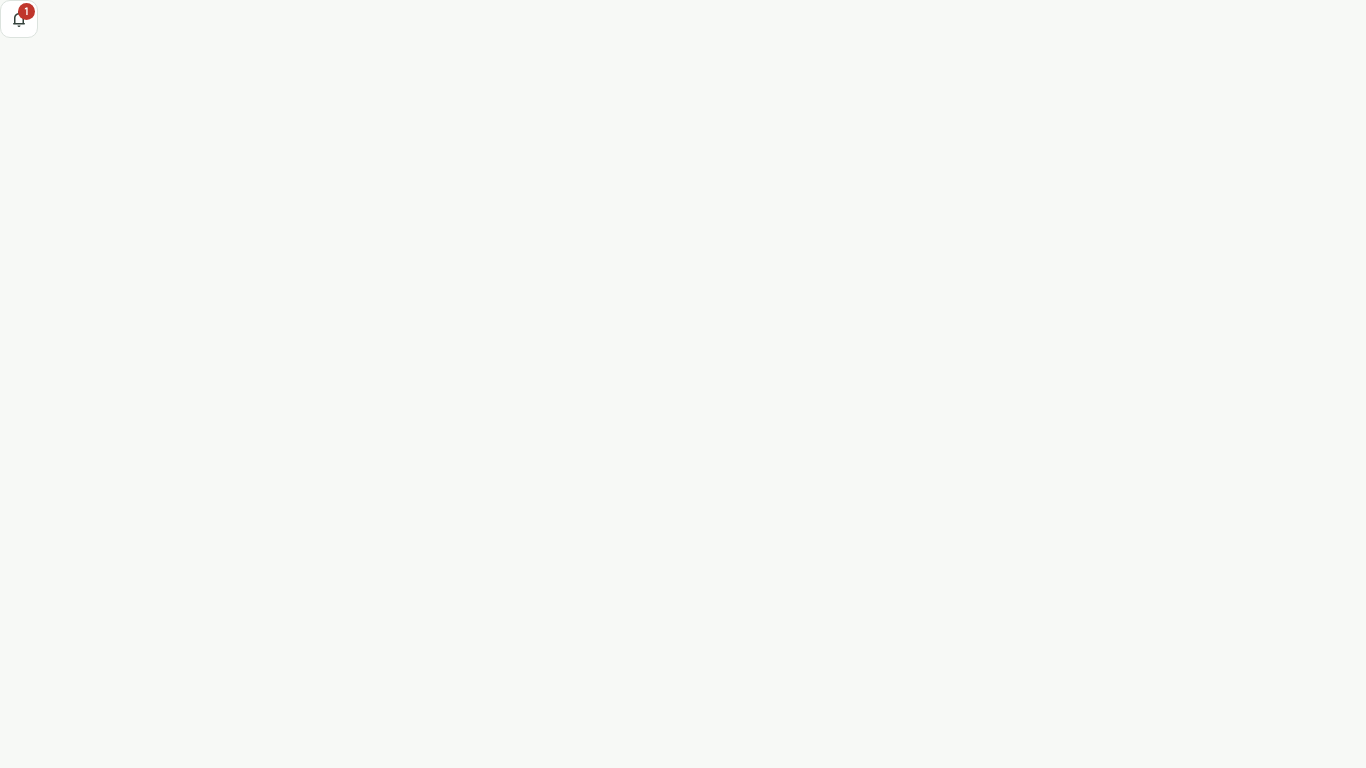
Test: the bell against the real Lefi Brain › shows unread notifications and marks one read when opened
The width and height of the screenshot is (1366, 768).
Later steps or results of the test are not shown.
Click the button named "Notifications, 1 unread". click: (19, 19)
box: [0,0,38,38]
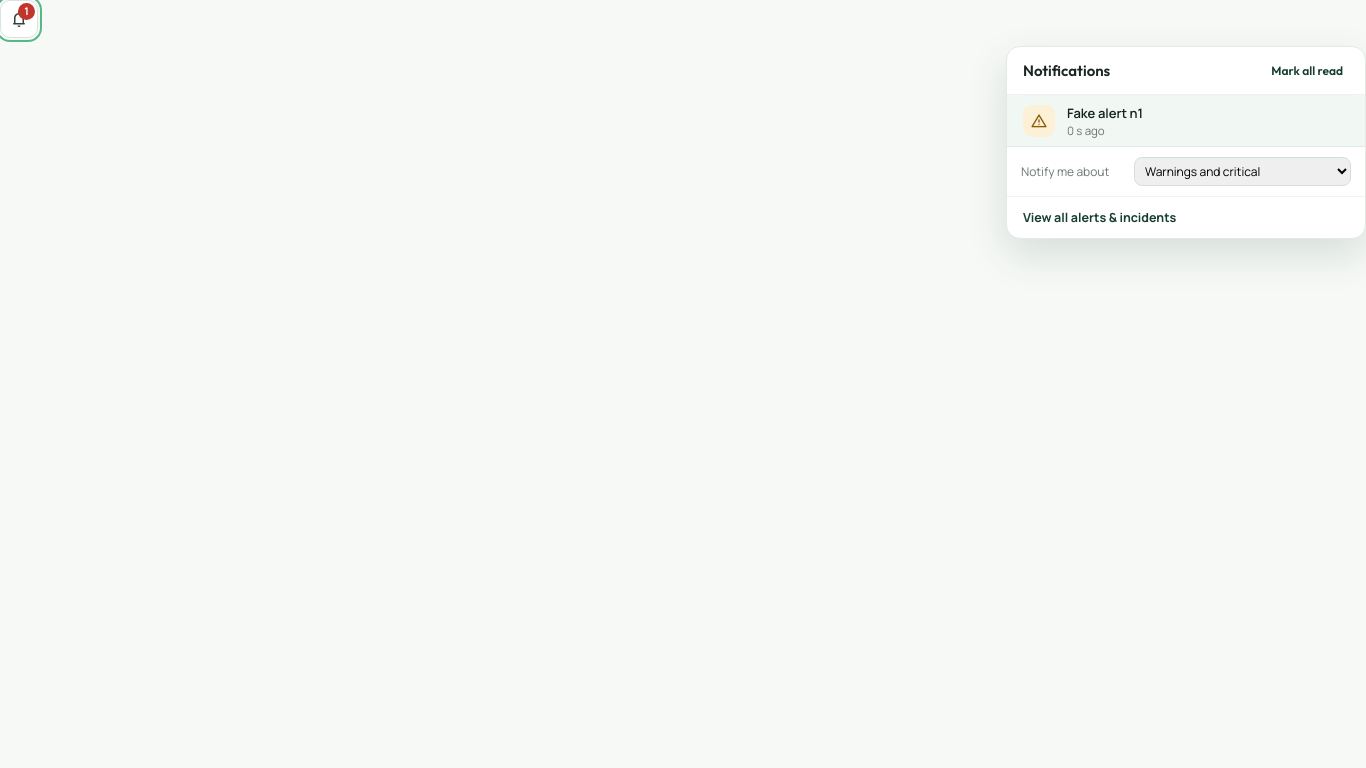
Now the text "Fake alert n1" is shown, box [1067,104,1143,122]
Now the dropdown shows "Warnings and critical", box [1134,157,1351,186]
